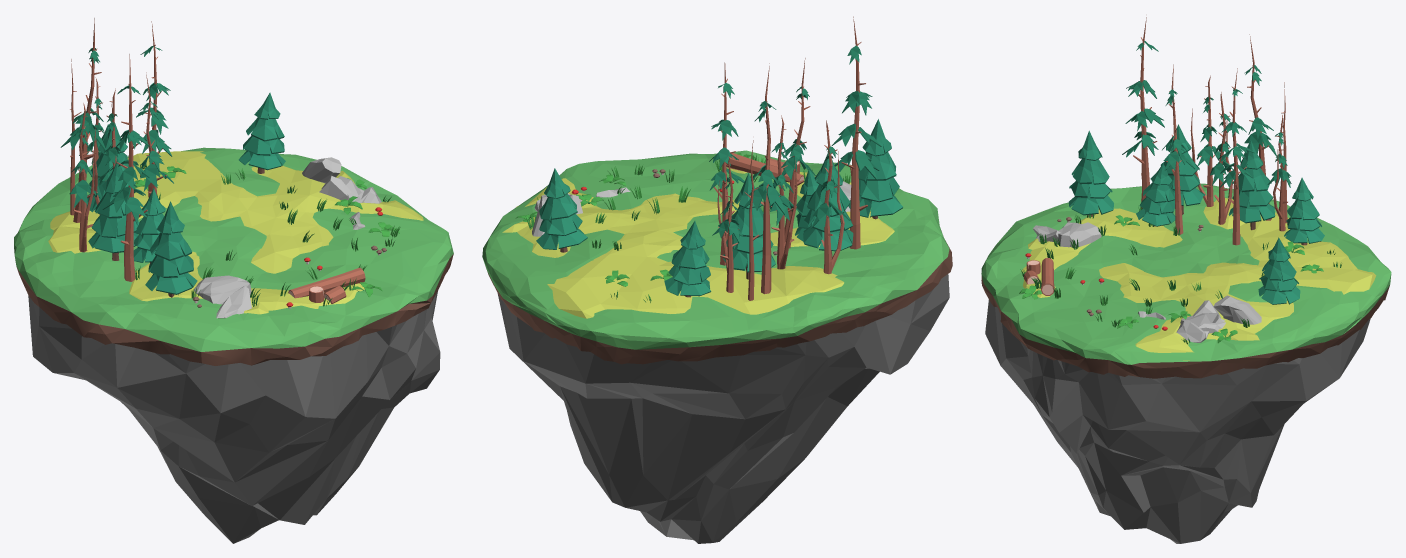
File: land-26.fbx
3 renders of one model, left to right at view 1: azimuth 30°, elevation 25°; view 2: azimuth 150°, elevation 25°; view 3: azimuth 270°, elevation 25°, orthographic. The views are drawn at different scales.
Visible parts, largest first — view 1: land_26.003, pasted__polySurface6046.001, pCube3679.001, pasted__polySurface6045.001, pasted__polySurface6050.001, polySurface12385.001, polySurface12376.001, pasted__polySurface6049.001, polySurface12375.002, pCube3677.001, polySurface12368.001, pasted__polySurface6048.001 (+5 smaller); view 2: land_26.003, pCube3679.001, pasted__polySurface6046.001, pasted__polySurface6045.001, pasted__polySurface6050.001, pasted__polySurface6047.001, polySurface12376.001, pasted__polySurface6048.001, polySurface12385.001, pCube3677.001, polySurface12384.001, polySurface12383.001 (+4 smaller); view 3: land_26.003, pasted__polySurface6046.001, pasted__polySurface6048.001, pasted__polySurface6045.001, pCube3679.001, pasted__polySurface6047.001, pasted__polySurface6049.001, pCube3677.001, polySurface12375.002, pasted__polySurface6050.001, polySurface12383.001, polySurface12385.001 (+5 smaller).
Part boxes in pixels (<box>): land_26.003: <box>14,147,453,543</box>; pasted__polySurface6046.001: <box>145,201,197,297</box>; pCube3679.001: <box>102,54,149,281</box>; pasted__polySurface6045.001: <box>238,92,285,173</box>; pasted__polySurface6050.001: <box>88,159,139,260</box>; polySurface12385.001: <box>69,103,101,252</box>; polySurface12376.001: <box>60,18,106,222</box>; pasted__polySurface6049.001: <box>133,188,165,264</box>; polySurface12375.002: <box>302,157,363,199</box>; pCube3677.001: <box>136,21,172,197</box>; polySurface12368.001: <box>194,275,251,304</box>; pasted__polySurface6048.001: <box>86,122,135,212</box>; land_26.003: <box>482,150,952,543</box>; pCube3679.001: <box>831,16,881,249</box>; pasted__polySurface6046.001: <box>848,119,902,219</box>; pasted__polySurface6045.001: <box>536,168,587,252</box>; pasted__polySurface6050.001: <box>803,152,853,257</box>; pasted__polySurface6047.001: <box>664,221,711,297</box>; polySurface12376.001: <box>742,63,787,294</box>; pasted__polySurface6048.001: <box>722,173,775,279</box>; polySurface12385.001: <box>811,120,849,274</box>; pCube3677.001: <box>709,62,744,265</box>; polySurface12384.001: <box>769,115,803,269</box>; polySurface12383.001: <box>781,58,815,248</box>; land_26.003: <box>981,183,1391,543</box>; pasted__polySurface6046.001: <box>1068,130,1113,216</box>; pasted__polySurface6048.001: <box>1228,140,1275,230</box>; pasted__polySurface6045.001: <box>1258,237,1300,304</box>; pCube3679.001: <box>1122,17,1164,208</box>; pasted__polySurface6047.001: <box>1284,177,1324,245</box>; pasted__polySurface6049.001: <box>1136,162,1175,226</box>; pCube3677.001: <box>1217,68,1254,245</box>; polySurface12375.002: <box>1193,295,1261,333</box>; pasted__polySurface6050.001: <box>1160,124,1205,214</box>; polySurface12383.001: <box>1162,64,1194,234</box>; polySurface12385.001: <box>1190,75,1226,206</box>.
Bounding box in the file's own units: 1668 × 2213 × 1746.
Materials: 1 (1 with a texture image).
